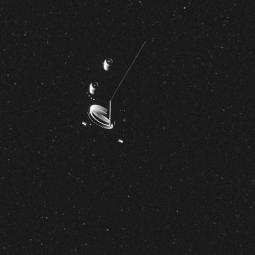proba_3_csc: (74, 33, 158, 144)
